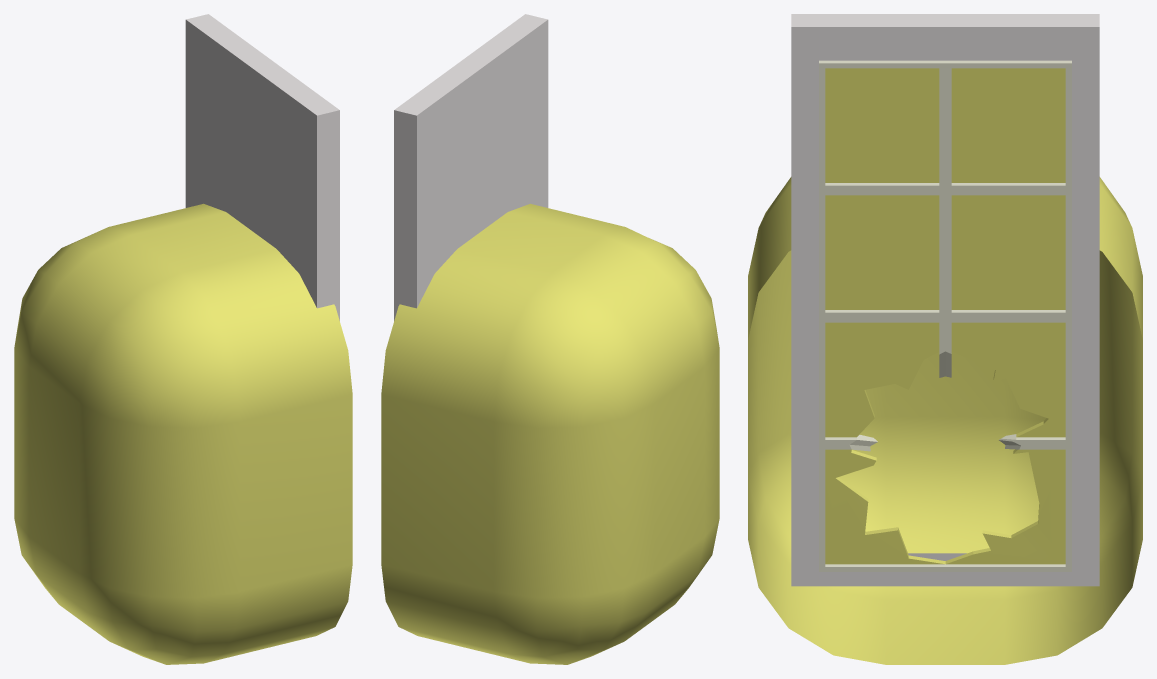
The model's file is SM_HOTEL_Wall_Cutscene_Broken.fbx.
3 views of the same model, side by side, from view 1: azimuth 30°, elevation 25°; view 2: azimuth 150°, elevation 25°; view 3: azimuth 270°, elevation 25° (orthographic). The views are drawn at different scales.
Visible parts, largest first — view 1: SM_HOTEL_Wall_Cutscene_Broken; view 2: SM_HOTEL_Wall_Cutscene_Broken; view 3: SM_HOTEL_Wall_Cutscene_Broken.
Boxes of the visible parts, <box> form: SM_HOTEL_Wall_Cutscene_Broken: <box>14,14,352,664</box>; SM_HOTEL_Wall_Cutscene_Broken: <box>381,14,719,664</box>; SM_HOTEL_Wall_Cutscene_Broken: <box>748,14,1142,664</box>.
Size of the model in its own units: 397 by 917 by 512.
